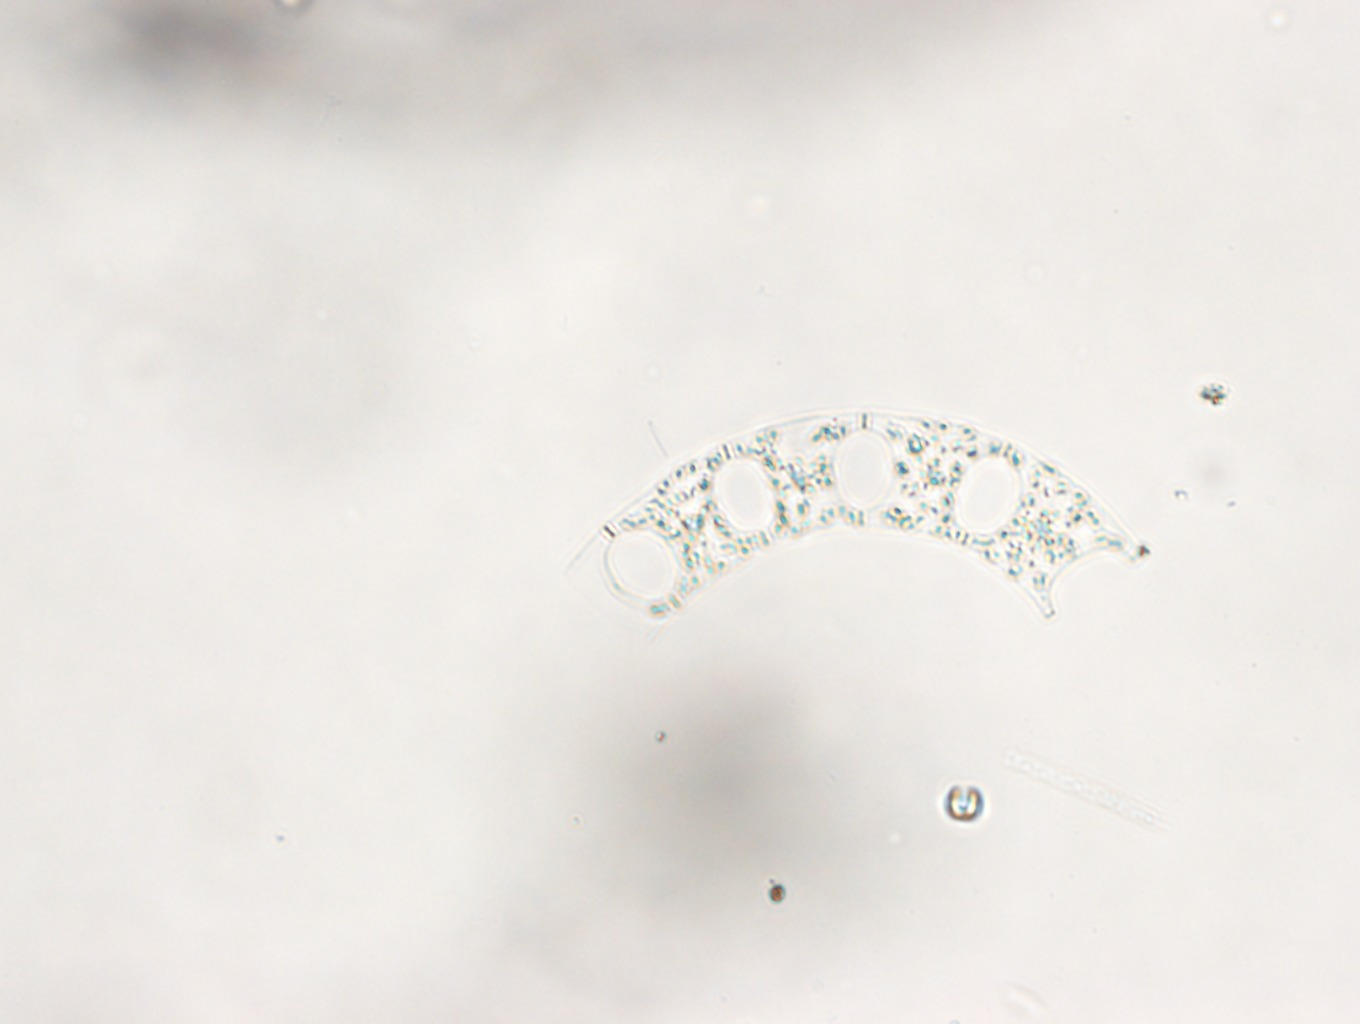eucampia: (566, 410, 1146, 632)
